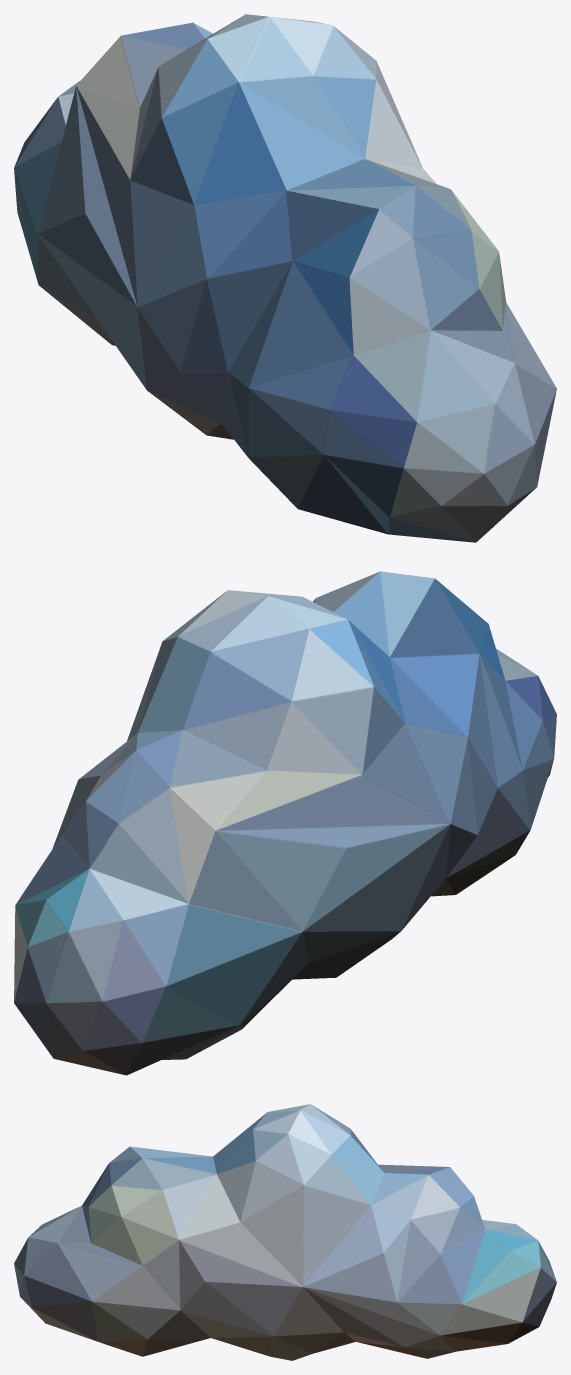
Rendered from cloud.fbx.
3 views of the same model, one above another, from view 1: azimuth 30°, elevation 25°; view 2: azimuth 150°, elevation 25°; view 3: azimuth 270°, elevation 25° (orthographic). The views are drawn at different scales.
Visible parts, largest first — view 1: Mesh_0; view 2: Mesh_0; view 3: Mesh_0.
Boxes of the visible parts, box(x1,y1,x2,y2) form: Mesh_0: box(14, 14, 556, 542); Mesh_0: box(14, 571, 556, 1075); Mesh_0: box(14, 1104, 556, 1360).
Bounding box in the file's own units: 48.44 × 58.75 × 120.
1 material, 1 textured.
